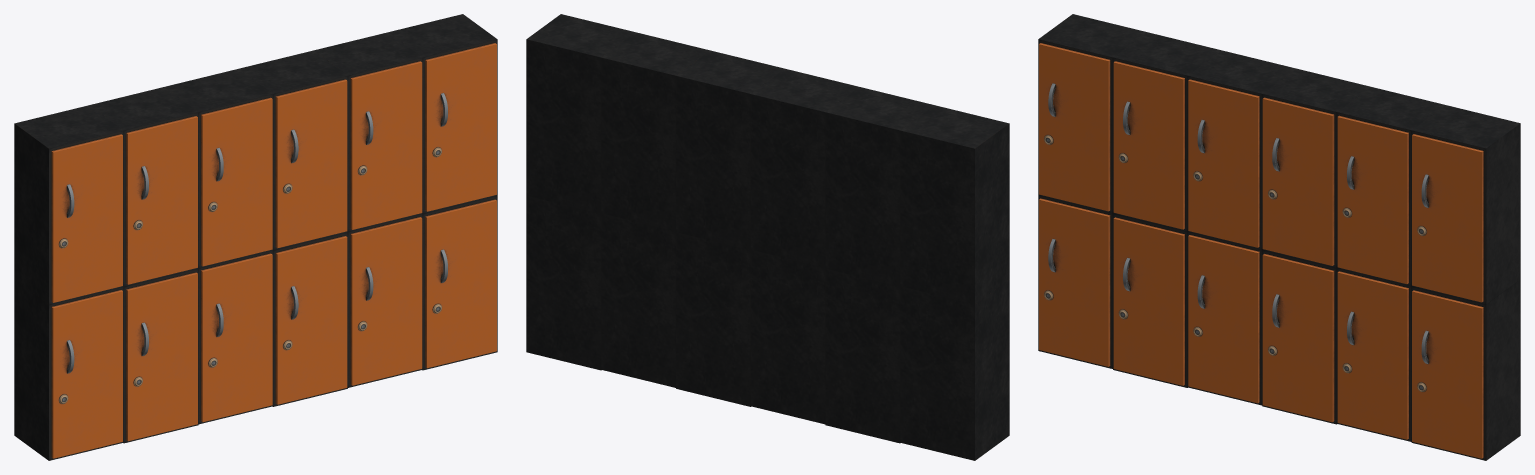
File: taquillas.fbx
3 renders of one model, left to right at view 1: azimuth 30°, elevation 25°; view 2: azimuth 150°, elevation 25°; view 3: azimuth 330°, elevation 25°, orthographic.
Parts seen in each view (by area): view 1: 02_1, 02_1.006, 02_1.007, 02_1.001, 02_1.011, 02_1.004, 02_1.005, 02_1.008, 02_1.010, 02_1.002, 02_1.003, 02_1.009 (+12 smaller); view 2: 02.009, 02.008, 02.002, 02.010, 02.005, 02.006, 02.001, 02.003, 02.011, 02.004, 02, 02.007; view 3: 02_1.006, 02_1.007, 02_1, 02_1.003, 02_1.001, 02_1.008, 02_1.009, 02_1.002, 02_1.011, 02_1.005, 02_1.010, 02_1.004 (+12 smaller).
Part boxes in pixels (box(x1,y1,x2,y2)): 02_1: box(350, 217, 422, 385); 02_1.006: box(275, 79, 347, 248); 02_1.007: box(275, 236, 347, 404); 02_1.001: box(350, 61, 422, 229); 02_1.011: box(126, 272, 197, 441); 02_1.004: box(201, 253, 272, 421); 02_1.005: box(201, 97, 272, 266); 02_1.008: box(51, 290, 122, 458); 02_1.010: box(126, 116, 197, 284); 02_1.002: box(425, 43, 496, 211); 02_1.003: box(425, 199, 496, 368); 02_1.009: box(51, 134, 122, 302); 02.009: box(900, 105, 1009, 304); 02.008: box(900, 279, 1009, 460); 02.002: box(526, 14, 635, 213); 02.010: box(825, 87, 934, 286); 02.005: box(750, 68, 859, 267); 02.006: box(676, 50, 784, 250); 02.001: box(601, 32, 710, 231); 02.003: box(526, 196, 601, 370); 02.011: box(825, 269, 900, 443); 02.004: box(750, 250, 825, 424); 02: box(601, 213, 675, 387); 02.007: box(676, 232, 751, 406); 02_1.006: box(1262, 97, 1334, 265); 02_1.007: box(1262, 254, 1334, 422); 02_1: box(1337, 271, 1408, 439); 02_1.003: box(1412, 290, 1483, 458); 02_1.001: box(1337, 115, 1408, 283); 02_1.008: box(1039, 198, 1110, 366); 02_1.009: box(1039, 43, 1110, 211); 02_1.002: box(1412, 134, 1483, 302); 02_1.011: box(1113, 217, 1184, 385); 02_1.005: box(1188, 79, 1259, 247); 02_1.010: box(1113, 61, 1184, 229); 02_1.004: box(1188, 235, 1259, 403).
Bounding box in the file's own units: 300 × 200 × 47.12.
